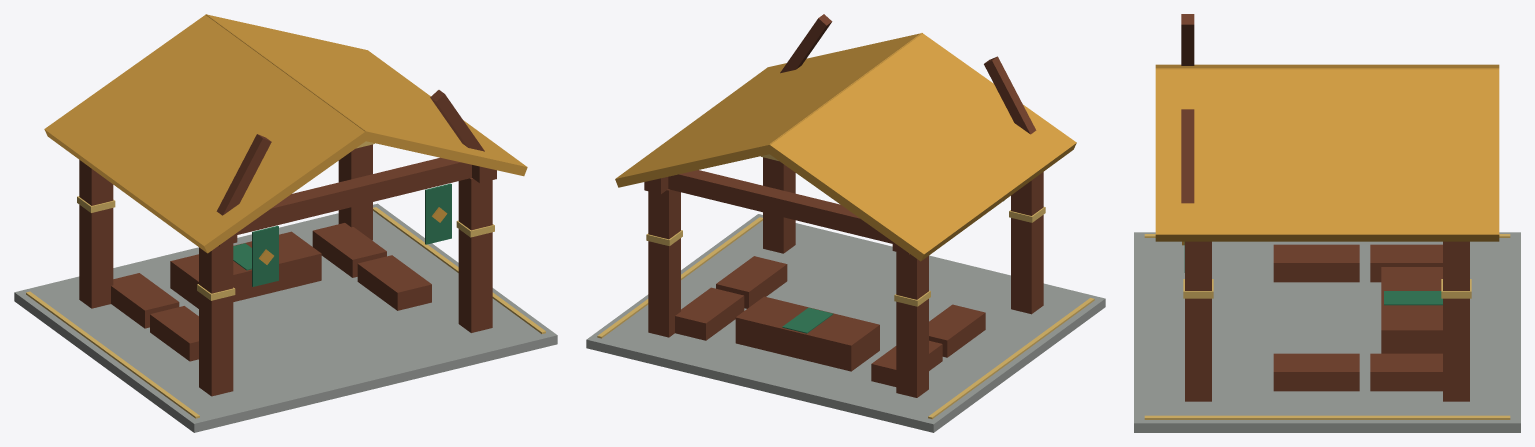
File: ironroot_feast_hall.glb
3 renders of one model, left to right at view 1: azimuth 30°, elevation 25°; view 2: azimuth 150°, elevation 25°; view 3: azimuth 270°, elevation 25°, orthographic. The views are drawn at different scales.
Parts seen in each view (by area): view 1: ironroot_feast_hall; view 2: ironroot_feast_hall; view 3: ironroot_feast_hall.
Boxes of the visible parts, x1,y1,x2,y2 form: ironroot_feast_hall: (14,14,557,432); ironroot_feast_hall: (586,14,1105,432); ironroot_feast_hall: (1134,14,1520,432).
Size of the model in its own units: 42 by 28.32 by 36.
